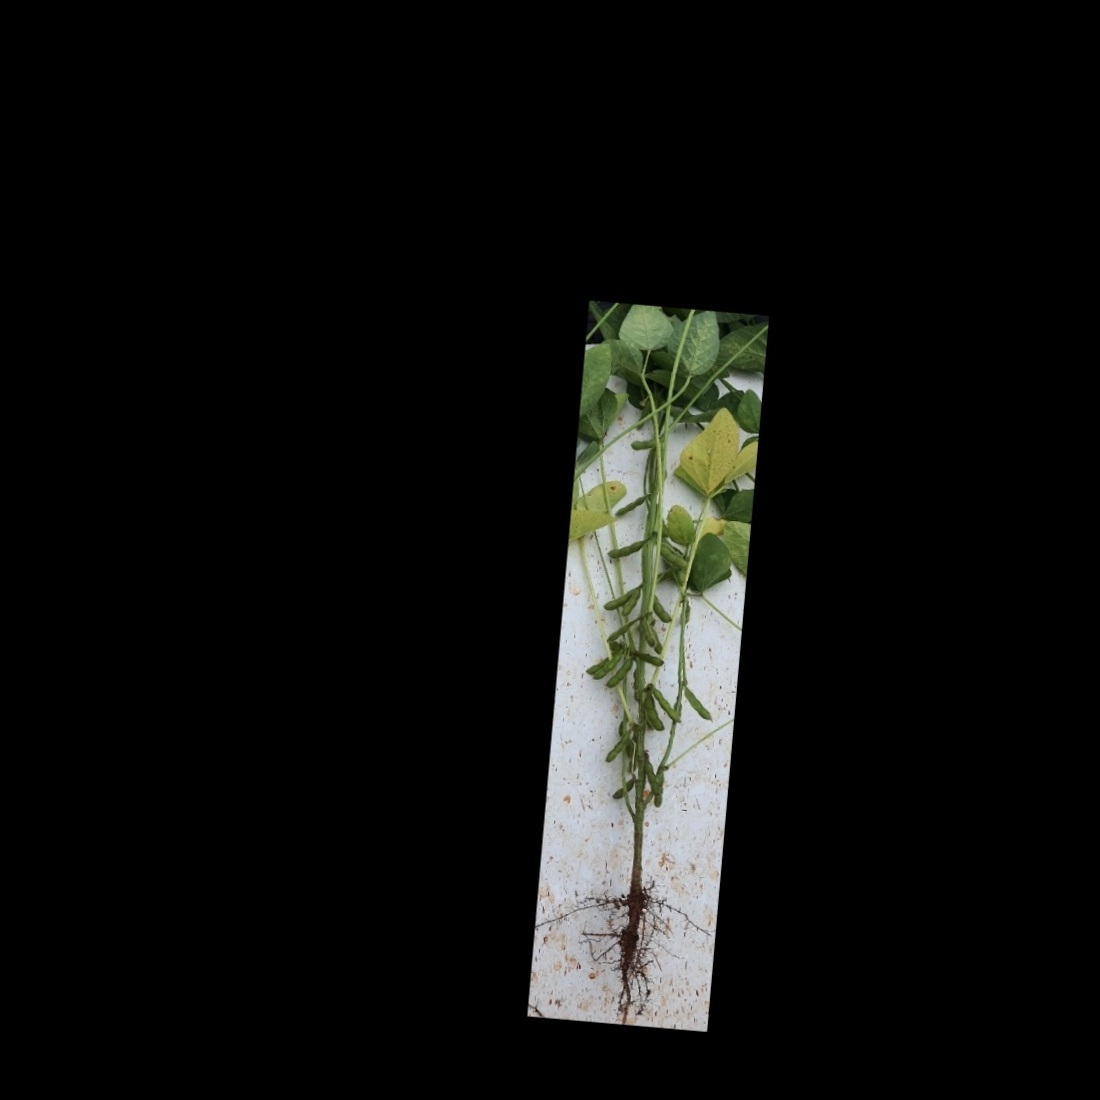pod: (609, 486, 655, 521), (604, 531, 653, 563), (651, 685, 689, 723), (679, 682, 715, 722), (603, 725, 632, 766), (639, 691, 666, 732), (604, 615, 643, 645), (605, 654, 635, 692), (647, 594, 676, 624), (609, 774, 635, 803), (628, 433, 662, 454), (651, 770, 666, 810), (633, 649, 666, 667)
soy: (548, 332, 749, 997)
